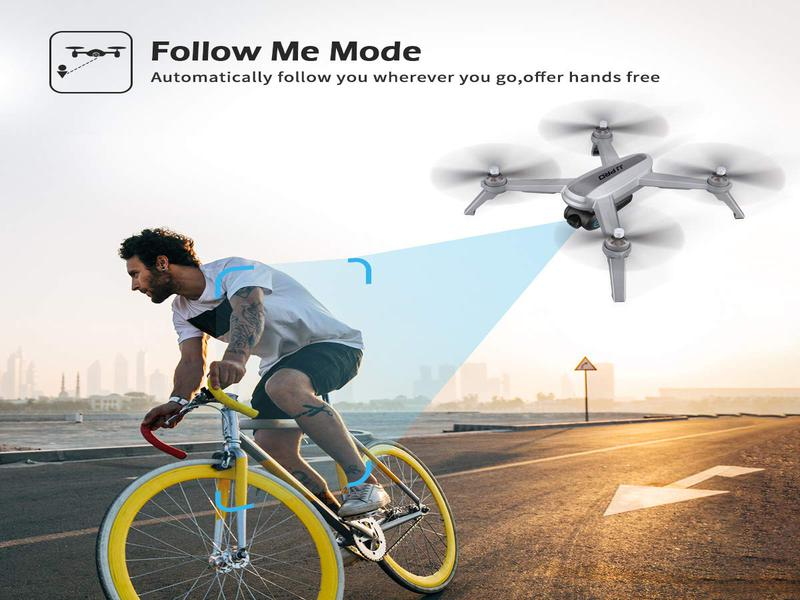enemy: (466, 120, 745, 304)
